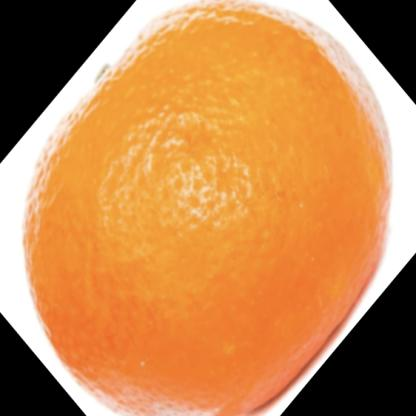fresh: (22, 6, 388, 416)
